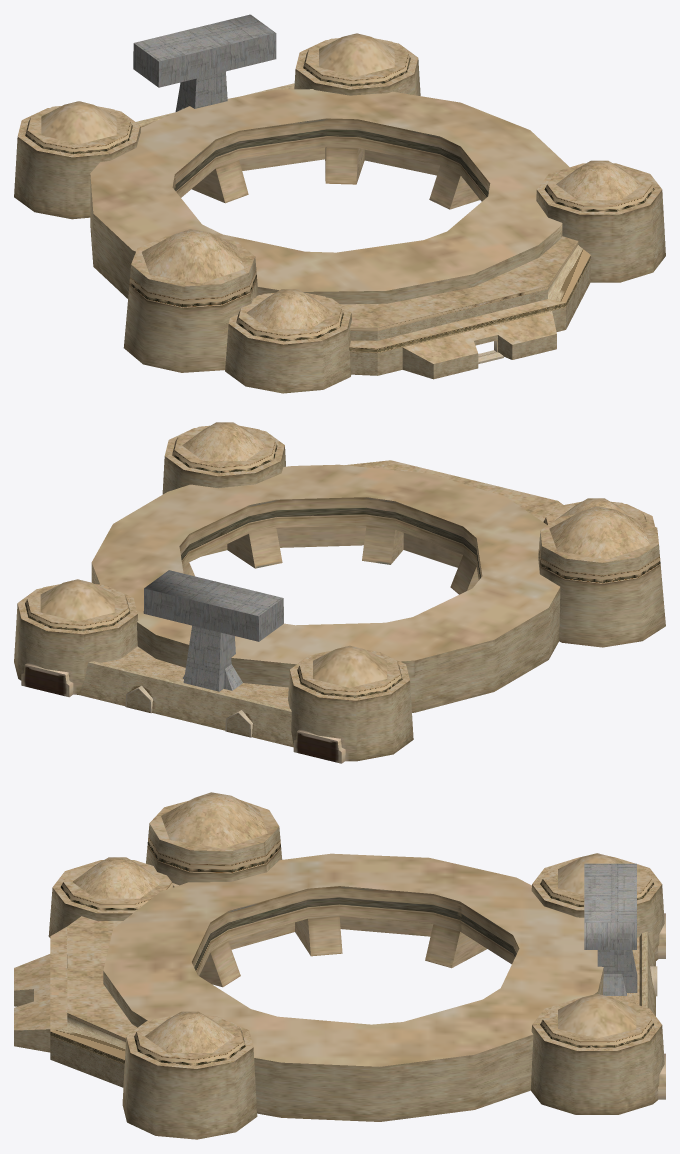
Rendered from mun_tato_starport_s01_u01_r0_mesh_l3.fbx.
The picture shows the model from 3 angles, top to bottom: view 1: azimuth 30°, elevation 25°; view 2: azimuth 150°, elevation 25°; view 3: azimuth 270°, elevation 25°; orthographic projection. The views are drawn at different scales.
Visible parts, largest first — view 1: mesh_node; view 2: mesh_node; view 3: mesh_node.
Boxes of the visible parts, x1,y1,x2,y2 form: mesh_node: [14, 14, 665, 393]; mesh_node: [14, 422, 665, 763]; mesh_node: [14, 792, 665, 1139].
Bounding box in the file's own units: 150 × 33.1 × 160.
